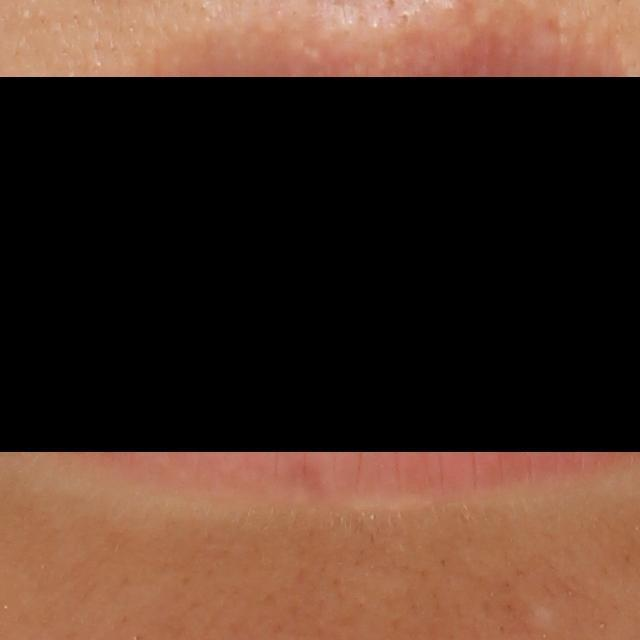hypertrophic_scar: (511, 594, 561, 635)
